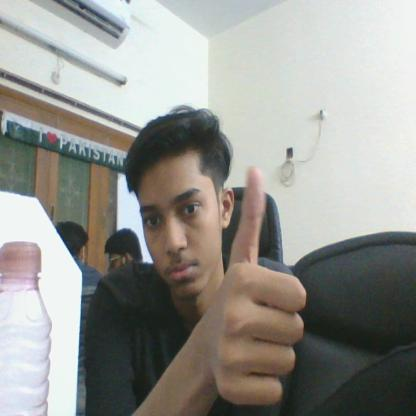thumbs-up: (209, 163, 308, 411)
